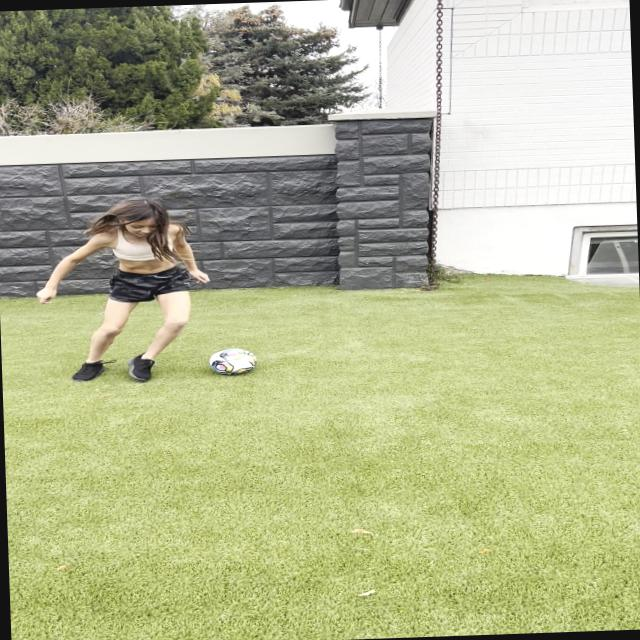Soccer Ball: (208, 347, 257, 375)
